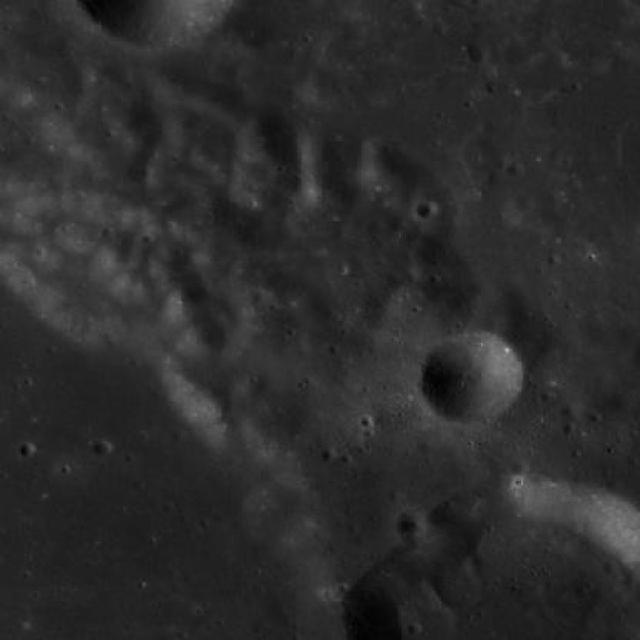crater: (420, 331, 526, 424), (0, 81, 62, 185), (126, 92, 189, 148), (262, 171, 318, 220), (430, 560, 484, 608), (377, 392, 431, 439), (360, 289, 403, 328), (600, 390, 632, 418), (397, 508, 428, 536), (128, 162, 156, 187), (337, 18, 365, 42), (412, 432, 438, 454), (408, 12, 432, 34), (417, 199, 440, 221), (468, 42, 492, 62), (560, 402, 583, 422), (248, 285, 268, 304), (19, 442, 38, 460), (94, 440, 114, 457), (282, 44, 302, 61), (512, 460, 531, 477), (518, 197, 536, 214), (507, 162, 525, 178)
